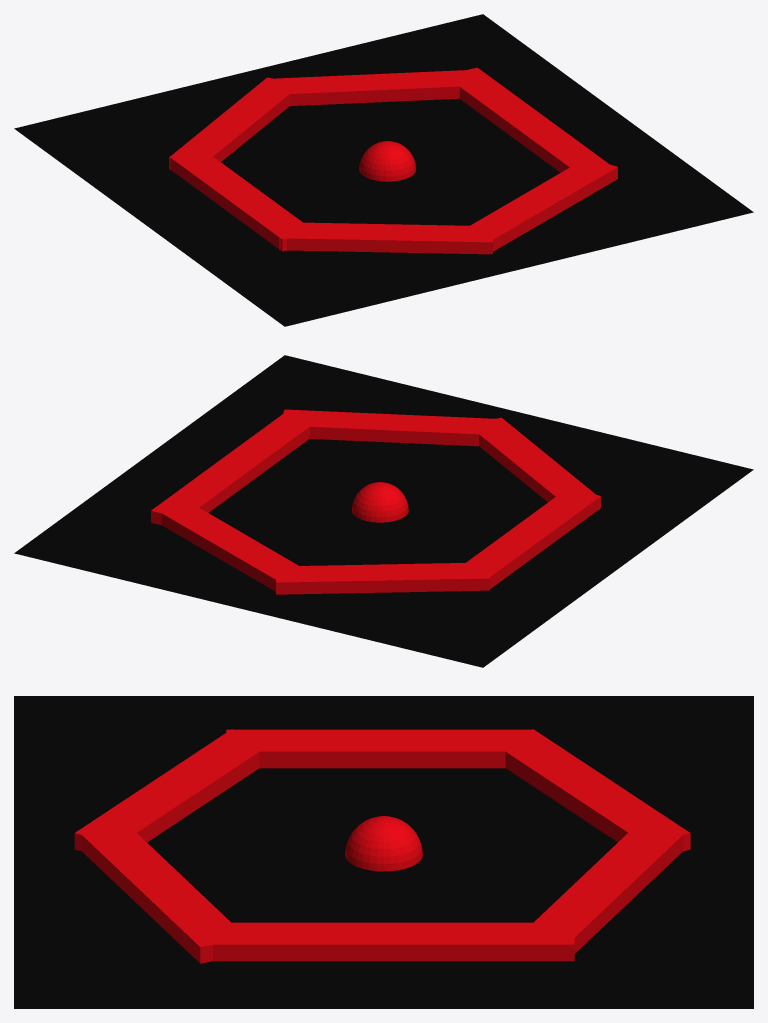
Rendered from Figura5.fbx.
3 renders of one model, top to bottom at view 1: azimuth 30°, elevation 25°; view 2: azimuth 150°, elevation 25°; view 3: azimuth 270°, elevation 25°, orthographic. The views are drawn at different scales.
Parts seen in each view (by area): view 1: Sphere; view 2: Sphere; view 3: Sphere.
Part boxes in pixels (x1,y1,x2,y2): Sphere: (14,14,753,326); Sphere: (14,355,753,667); Sphere: (14,696,753,1008).
Bounding box in the file's own units: 284 × 29.95 × 284.
